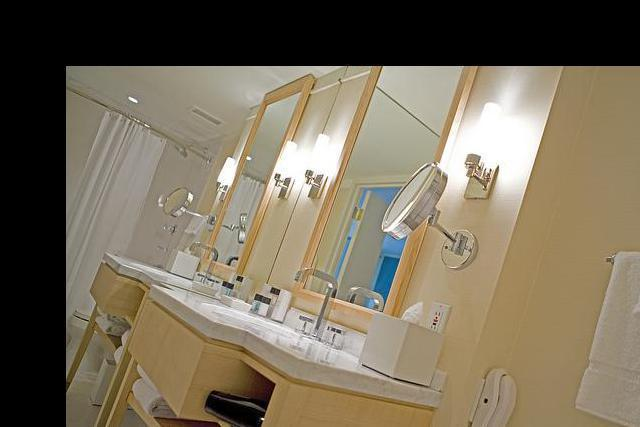Ducha: (66, 78, 213, 330)
Lavamanos: (206, 259, 349, 352), (124, 236, 221, 289)
Sanitario: (66, 272, 149, 383)
